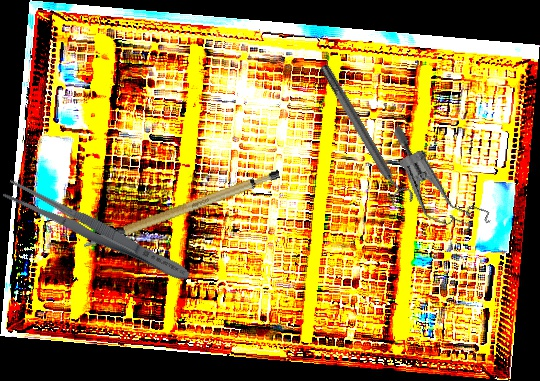Dressing Forceps: (1, 176, 194, 288)
Fixation Ring: (313, 58, 417, 212)
Scalpel Handle: (76, 167, 286, 248)
Speculum: (366, 123, 512, 245)
